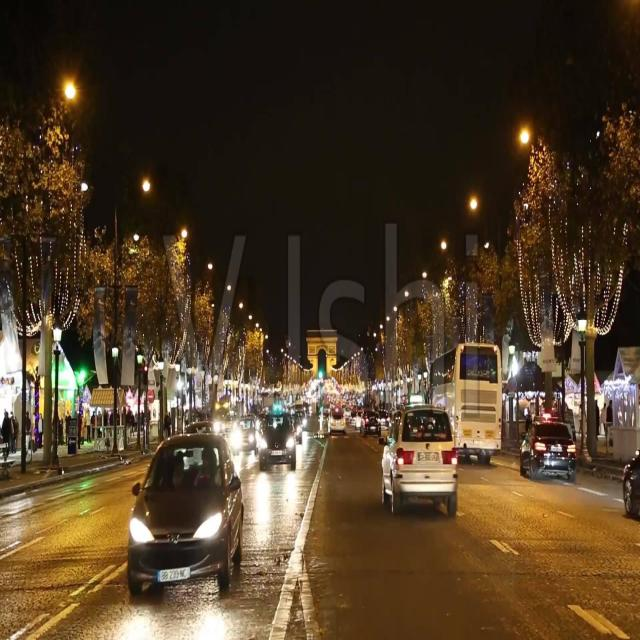other: (212, 409, 255, 462), (50, 68, 89, 120), (141, 164, 162, 212), (516, 119, 539, 158), (607, 372, 635, 403), (461, 192, 487, 221), (257, 410, 267, 464), (307, 372, 319, 412), (342, 379, 369, 396), (285, 429, 296, 456), (327, 381, 340, 396)
